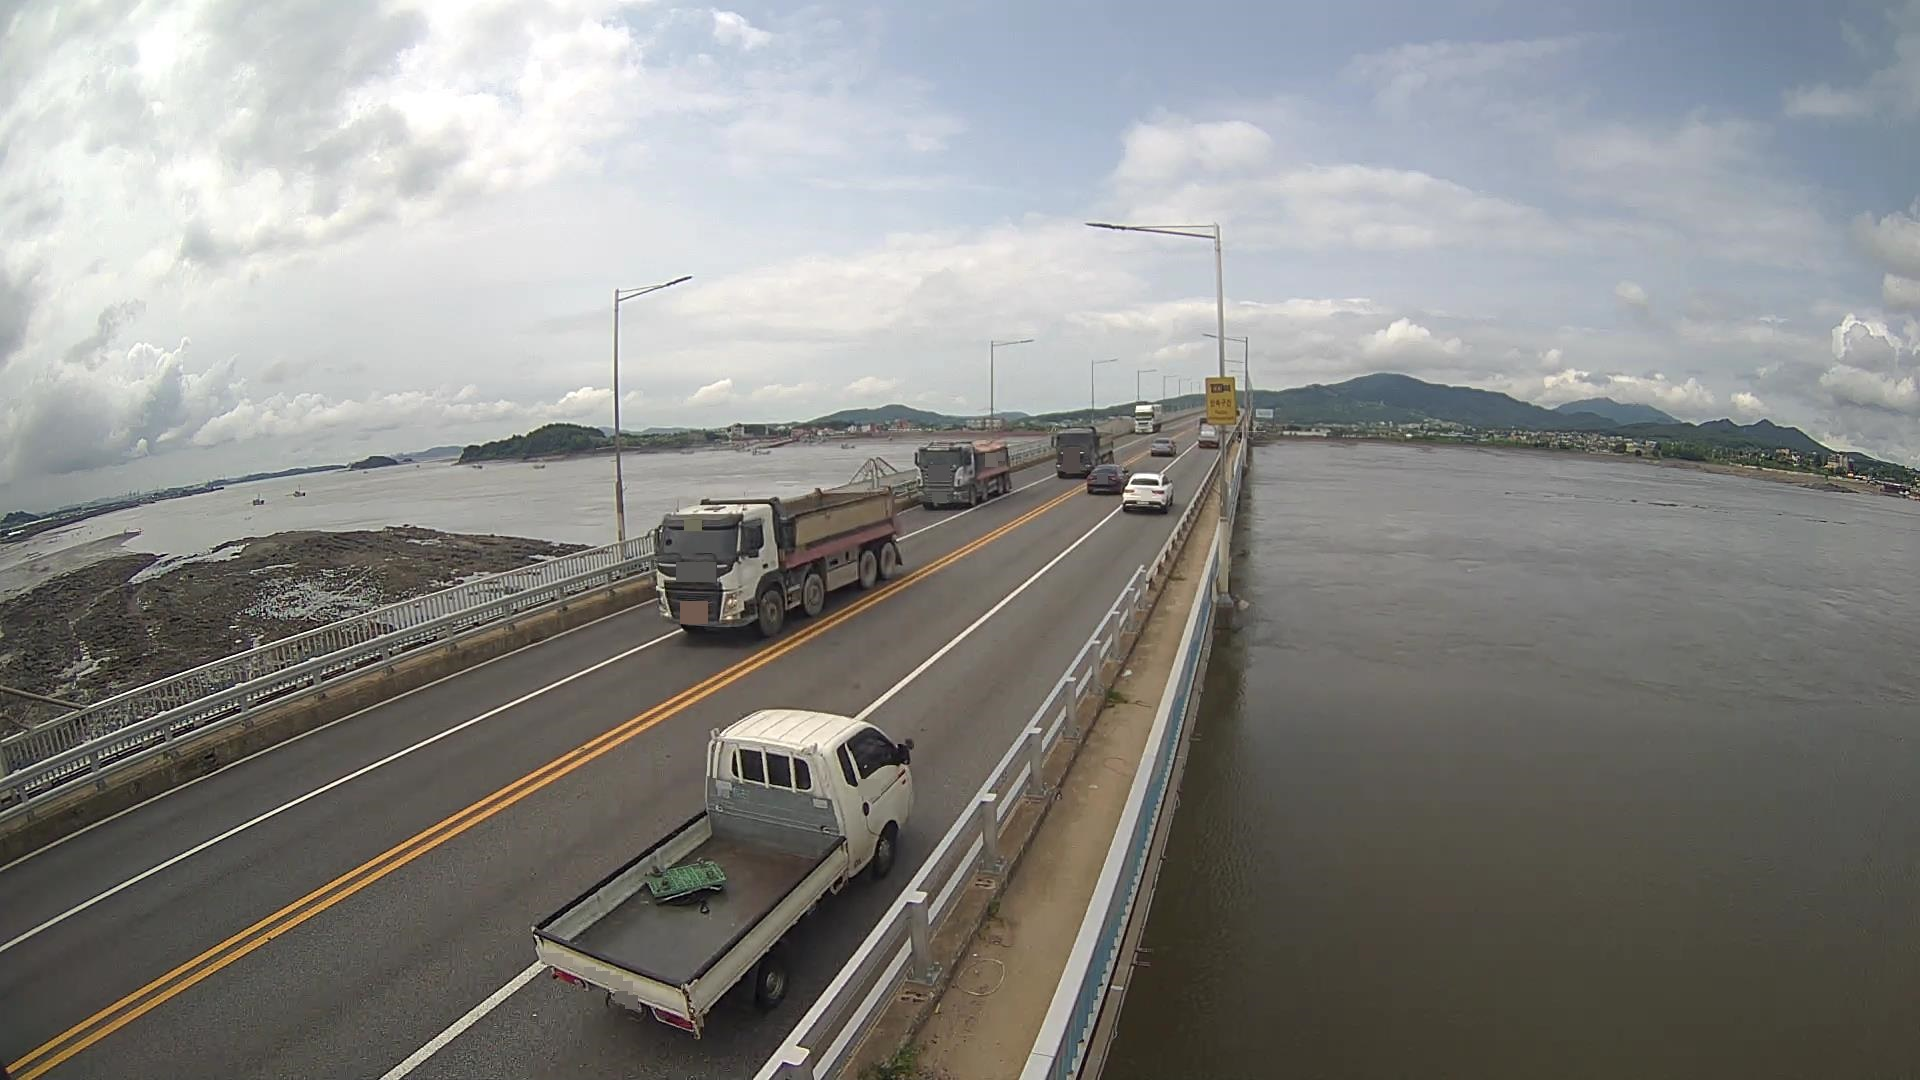정상차량: (645, 486, 903, 637)
